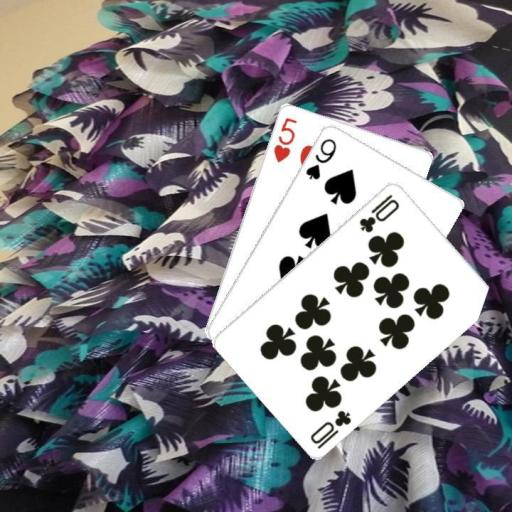10C: (307, 406, 353, 450), (356, 191, 401, 234)
5H: (270, 114, 299, 164)
9S: (302, 135, 338, 181)
